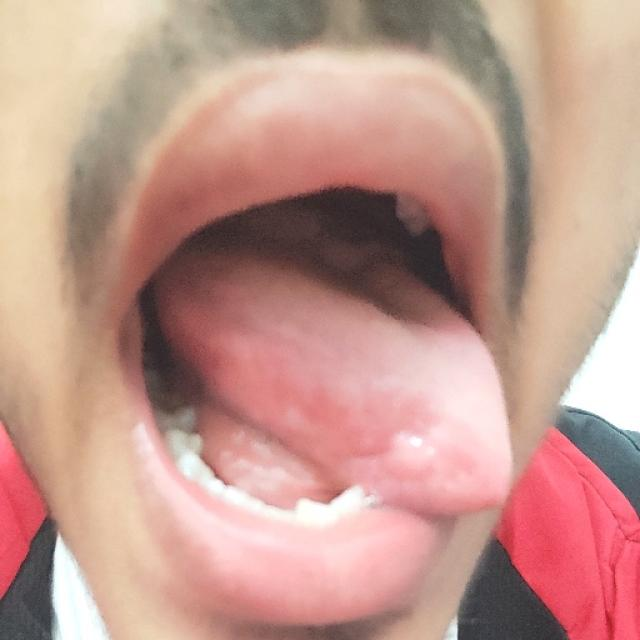processing_area: (162, 249, 518, 515)
